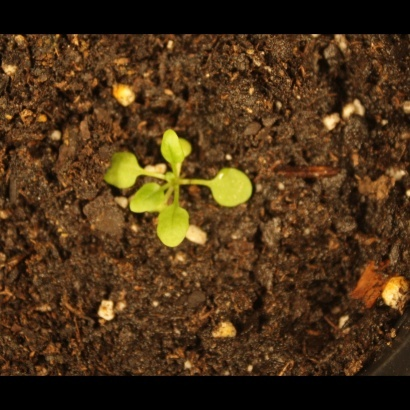leaf: (210, 163, 255, 212), (156, 203, 192, 251), (103, 145, 142, 189), (124, 183, 168, 217), (158, 124, 186, 166), (174, 134, 200, 157)
